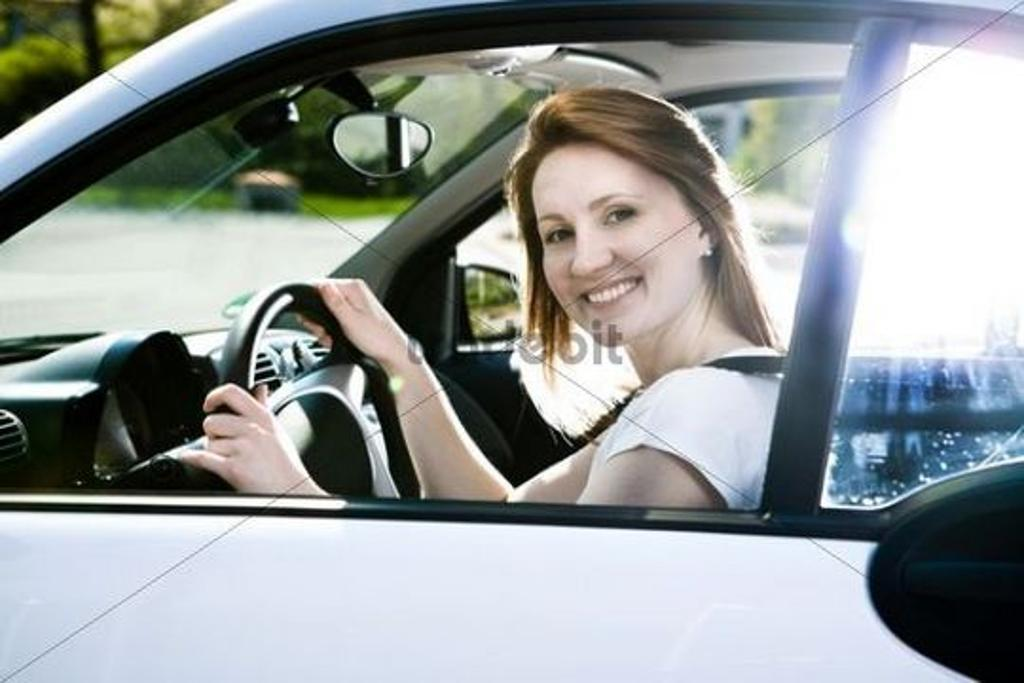face: (531, 139, 695, 345)
